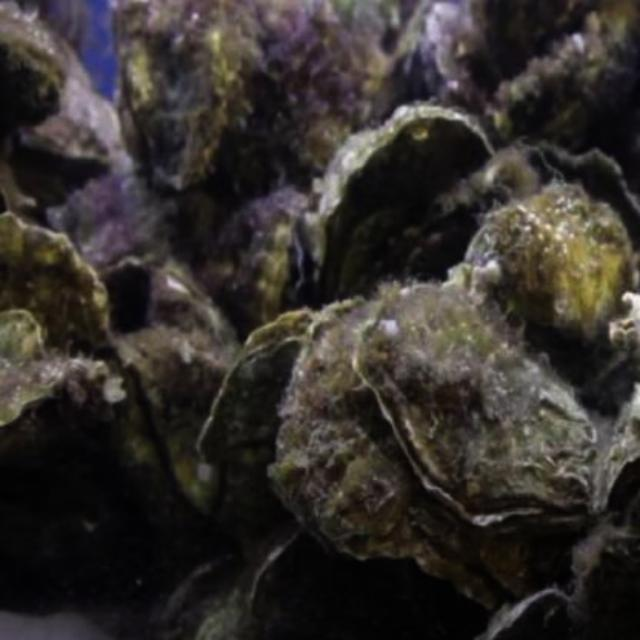Oyster-Closed: (267, 295, 572, 588), (349, 283, 599, 532), (451, 190, 638, 340), (120, 0, 240, 204), (117, 317, 238, 516), (196, 304, 313, 466), (0, 210, 112, 362), (48, 166, 166, 276), (0, 312, 112, 424), (0, 13, 65, 132)
Oyster-Open: (307, 101, 500, 315), (467, 143, 638, 266), (195, 191, 310, 329)
